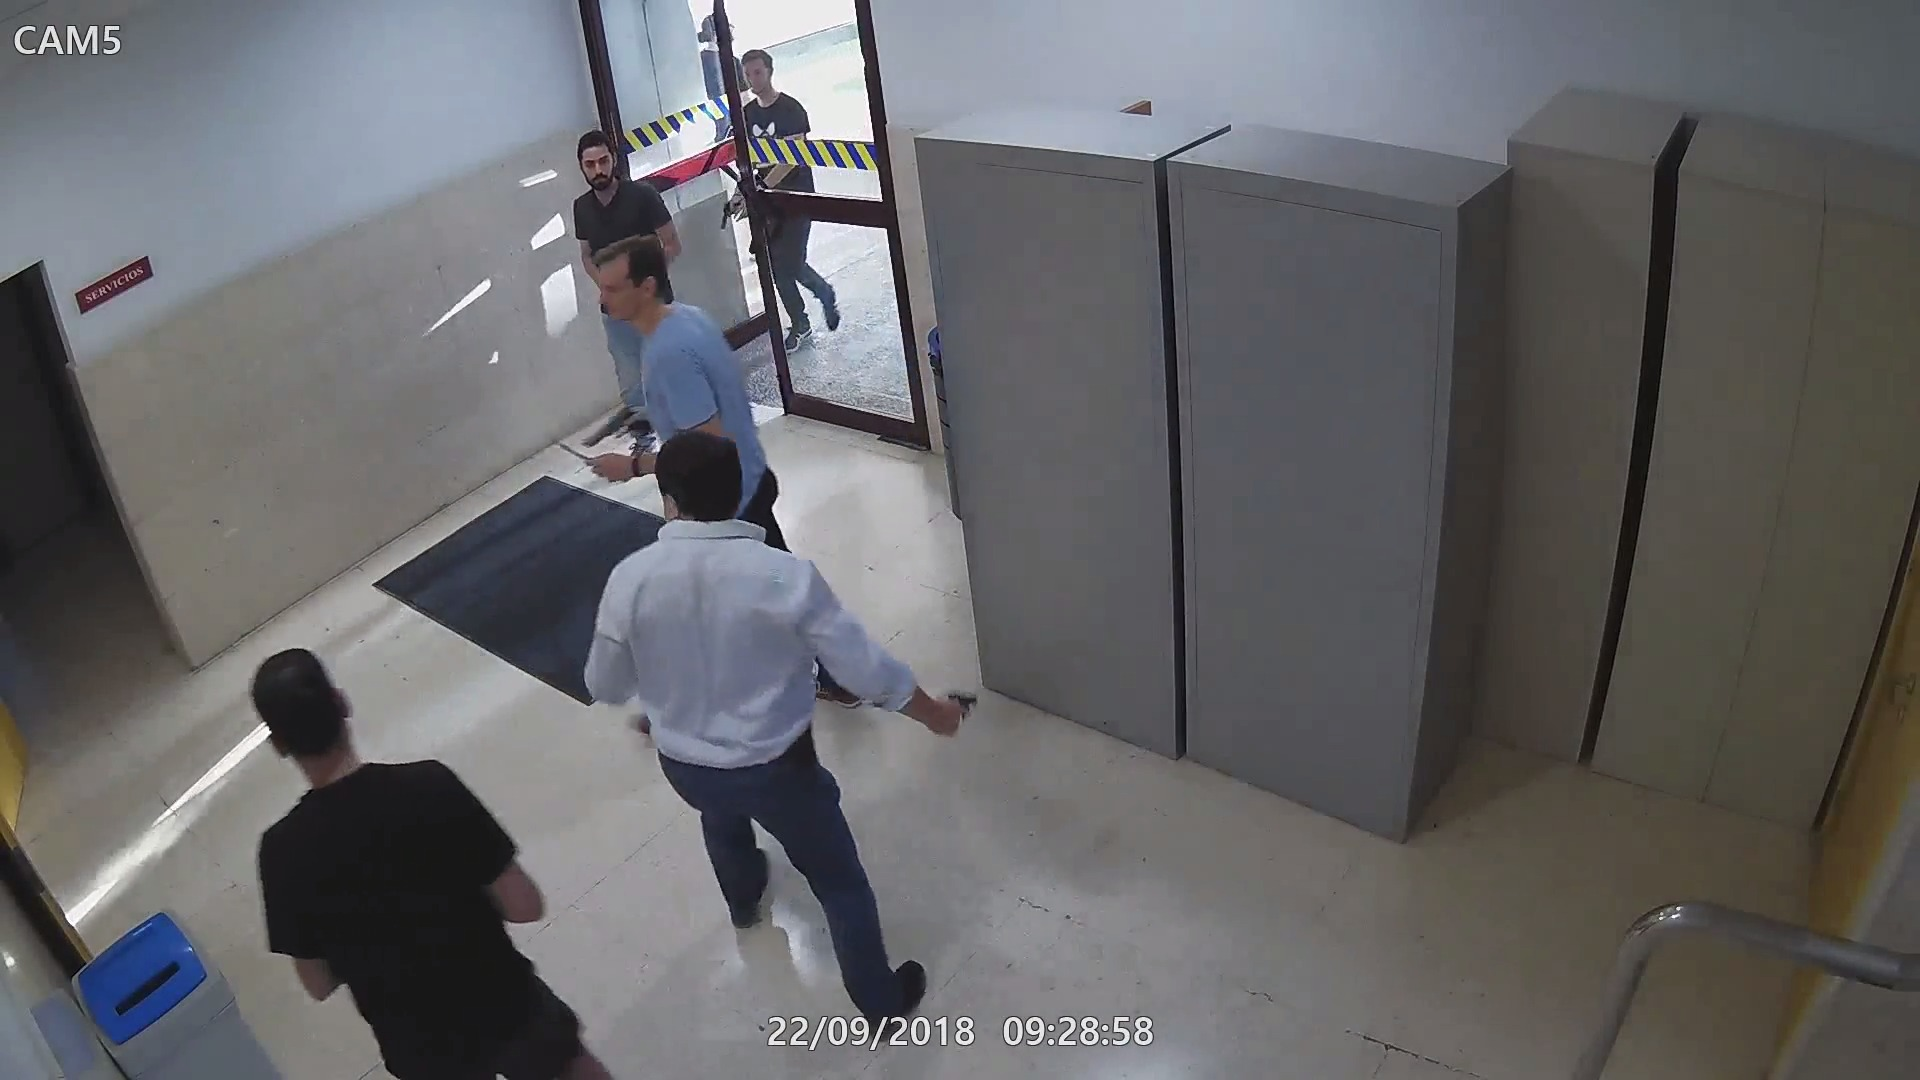Handgun: (922, 686, 982, 738), (583, 404, 654, 448), (717, 194, 749, 235)
Knife: (554, 436, 650, 483)
